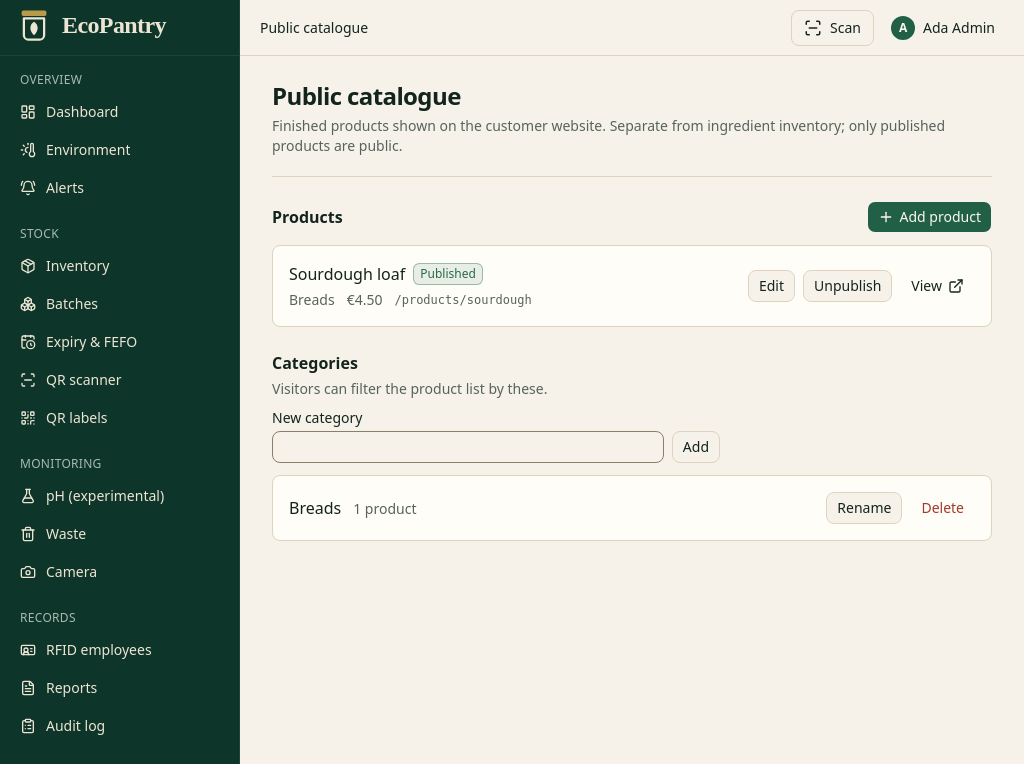
Test case: portal catalogue page › unpublishes a product
What coordinates should you click on to do the following:
click the button with aria-label "Unpublish Sourdough loaf"
I would click on:
 (848, 286)
Its box is [803,270,892,302].
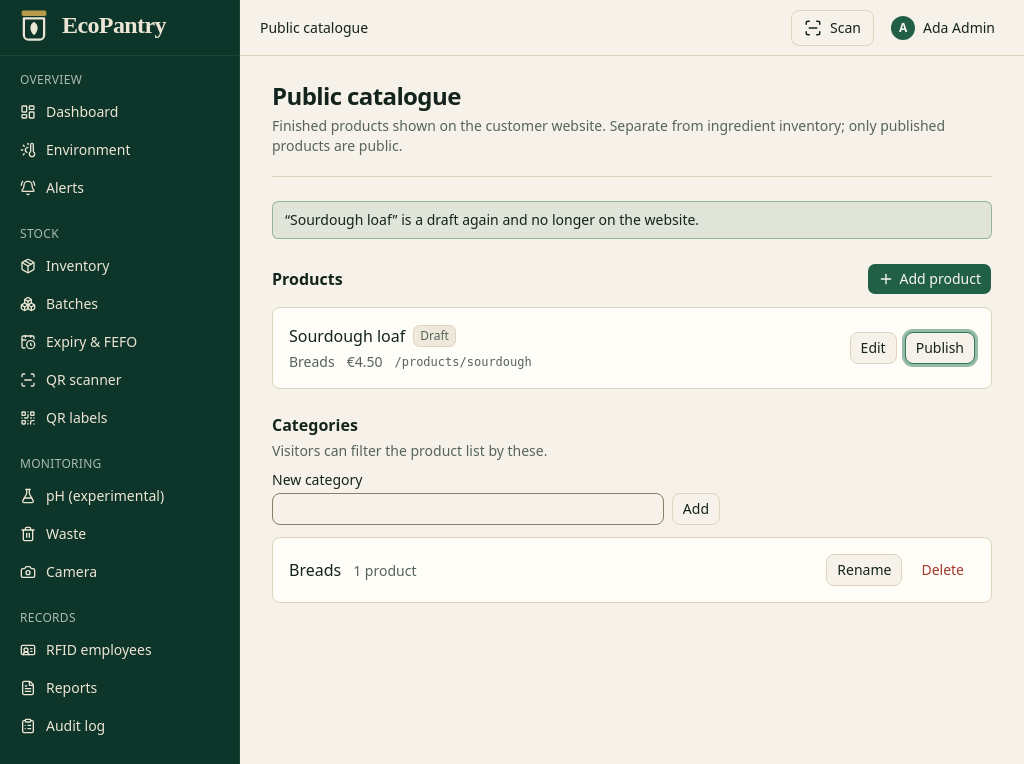
expect the button with aria-label "Publish Sourdough loaf" is shown: met, box [905,332,975,364]
expect the text "“Sourdough loaf” is a draft again and no longer on the website." is shown: met, box [272,201,992,239]
